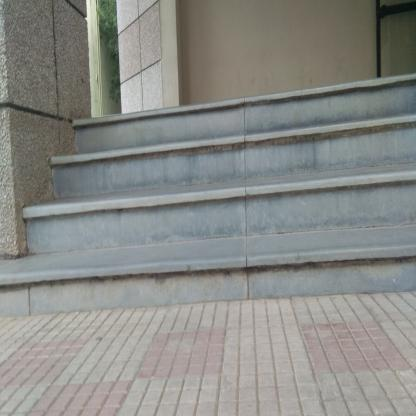stairs: (79, 110, 411, 314)
